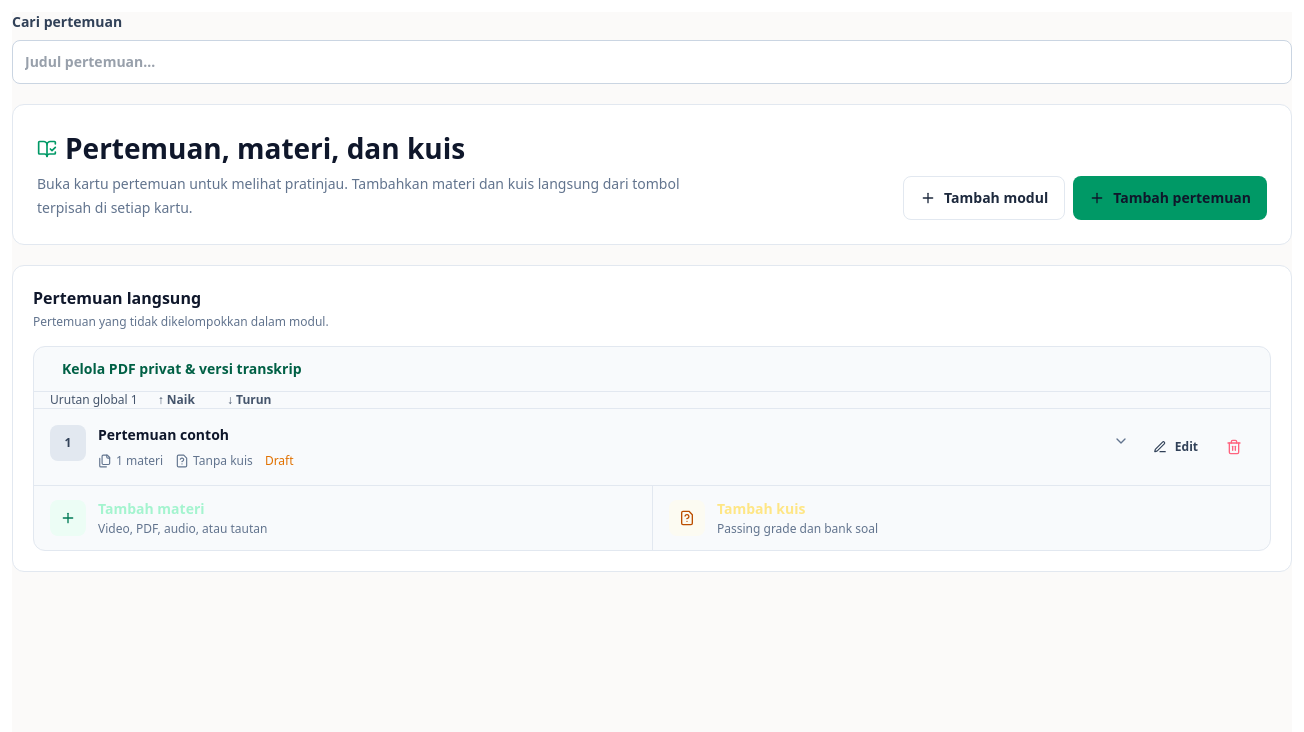
Curriculum loading and errors › does not misrepresent a failed material request as an empty meeting
Click the text "Pertemuan contoh" at (164, 435), box x1=98 y1=425 x2=229 y2=444
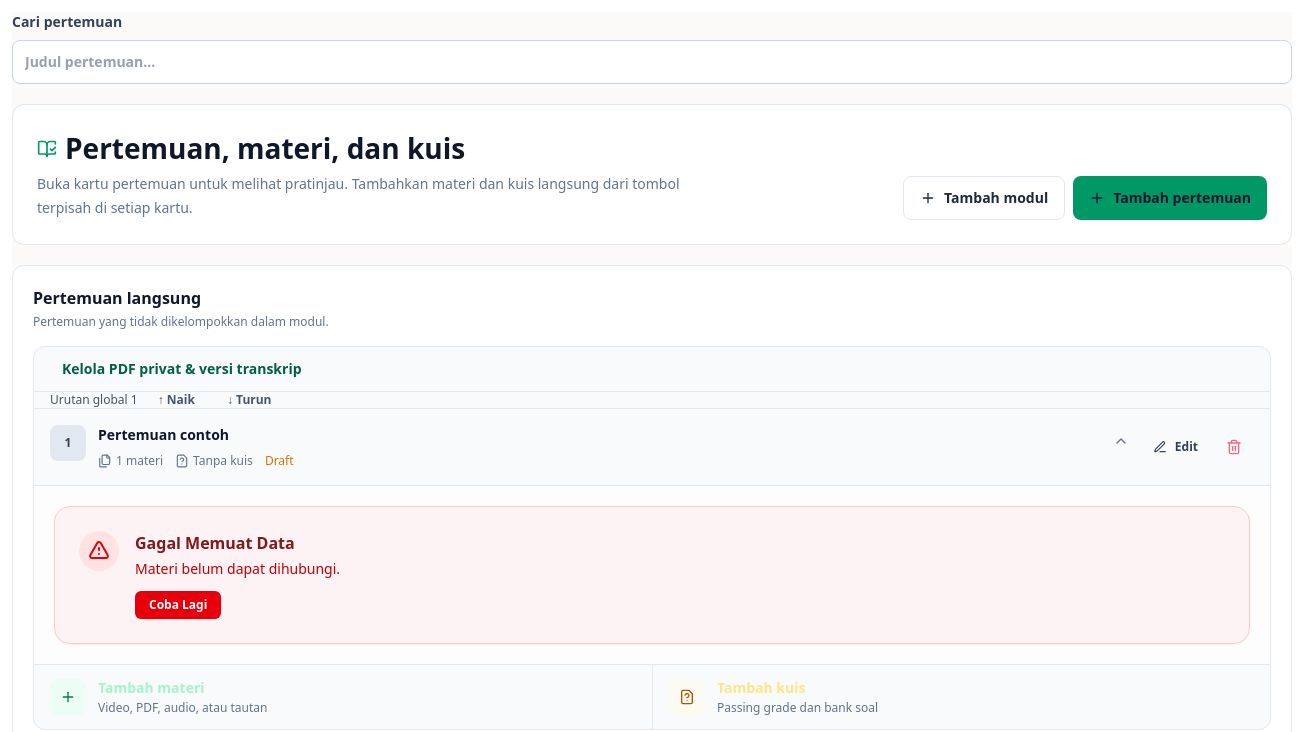
Result: the message shows "Materi belum dapat dihubungi." at x1=135 y1=559 x2=340 y2=578
